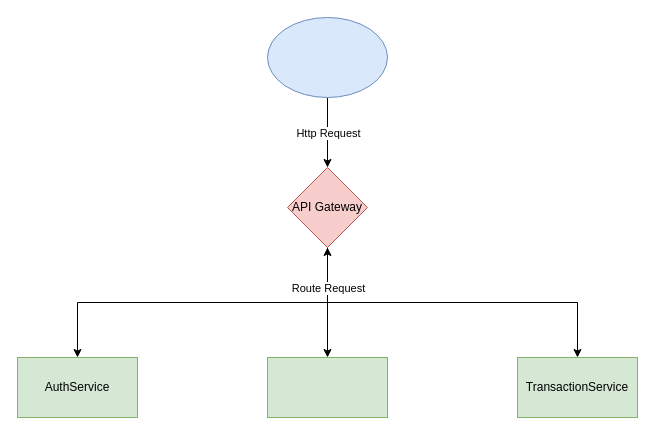
This 655x435 diagram has some shape labels left out. The shapes that lost their labels are listed below. From the top down, each one's centre as x and y in pixels, then its label:
(x=327, y=57): Front-end
(x=327, y=387): PropertyService
